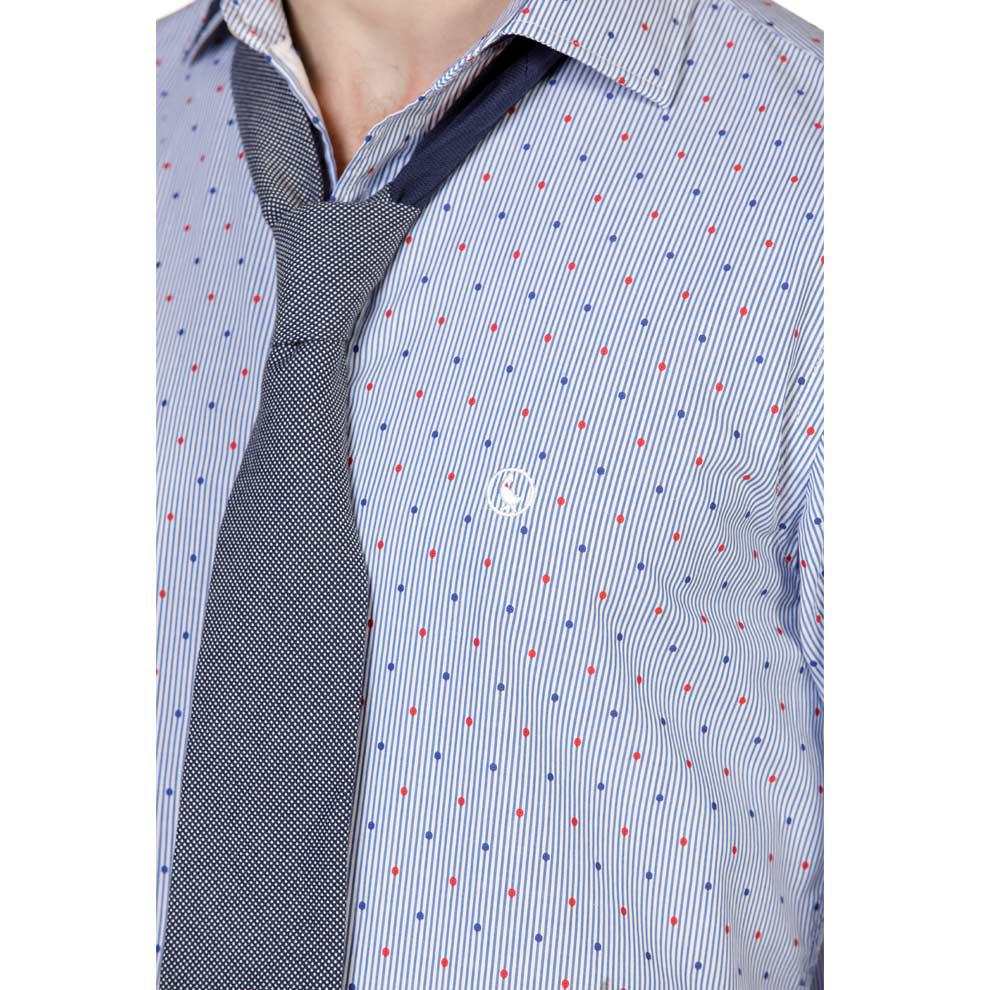teeshirt: (151, 1, 820, 987)
